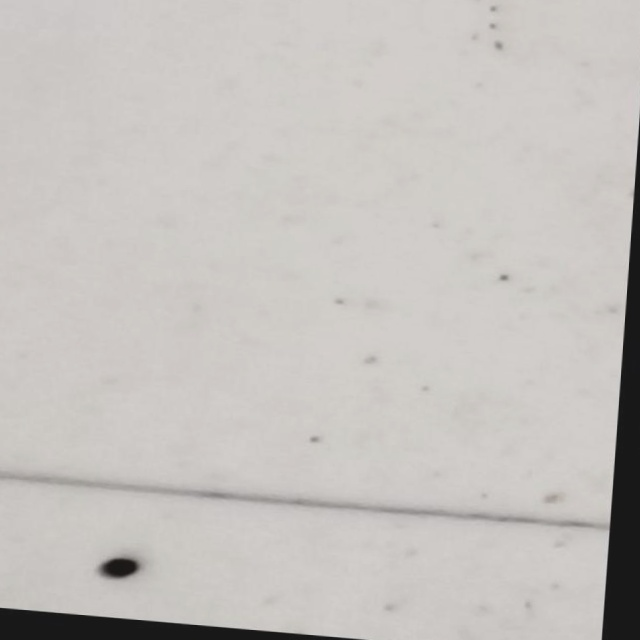varroa: (96, 559, 147, 590)
